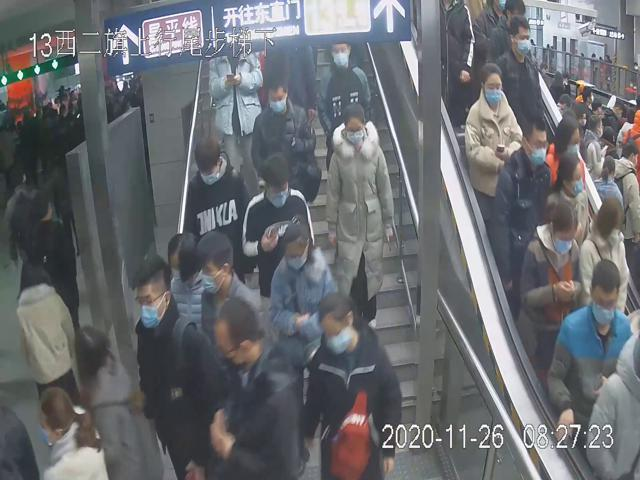person: (295, 288, 407, 480), (130, 250, 217, 480), (547, 252, 634, 457), (322, 100, 395, 336), (485, 112, 554, 303), (180, 136, 256, 289), (267, 211, 335, 379), (247, 65, 322, 217), (240, 155, 317, 303), (516, 198, 579, 370), (466, 58, 525, 226), (313, 36, 374, 160), (198, 232, 255, 349), (159, 229, 214, 336)
